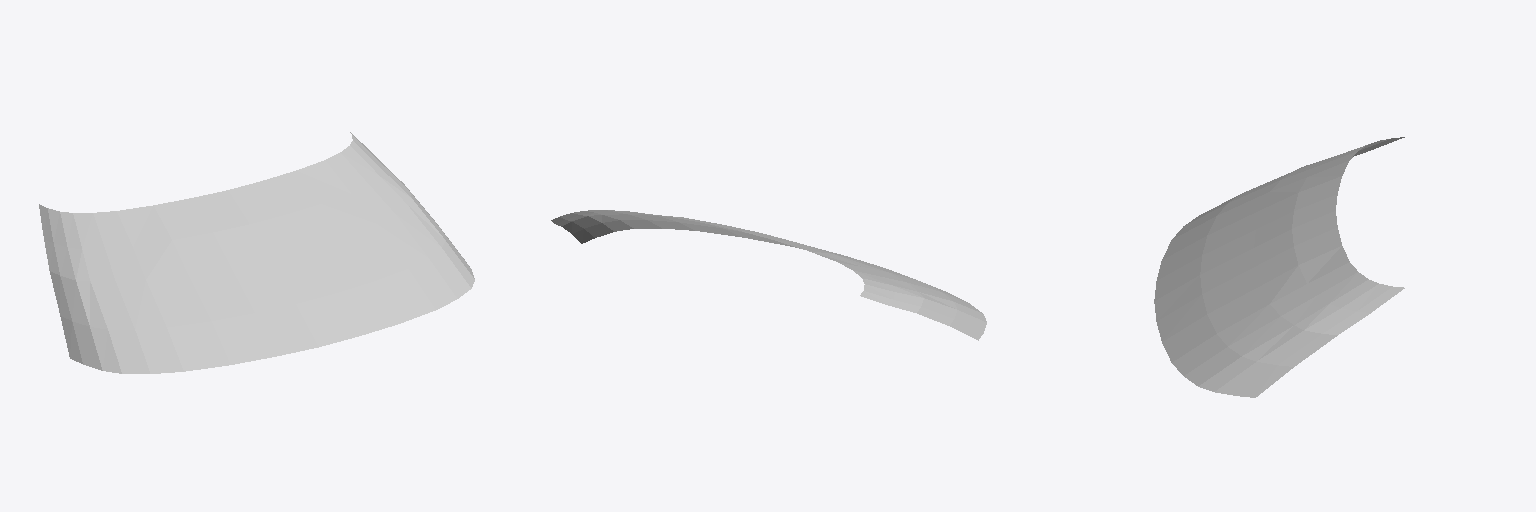
Rendered from sbrc_windshield.obj.
3 views of the same model, side by side, from view 1: azimuth 30°, elevation 25°; view 2: azimuth 150°, elevation 25°; view 3: azimuth 270°, elevation 25° (orthographic).
Visible parts, largest first — view 1: sbrc_windshield_Mesh.013; view 2: sbrc_windshield_Mesh.013; view 3: sbrc_windshield_Mesh.013.
Boxes of the visible parts, x1,y1,x2,y2 form: sbrc_windshield_Mesh.013: [39, 132, 474, 373]; sbrc_windshield_Mesh.013: [551, 210, 986, 340]; sbrc_windshield_Mesh.013: [1154, 137, 1404, 397].
Bounding box in the file's own units: 1.53 × 0.3348 × 0.84.